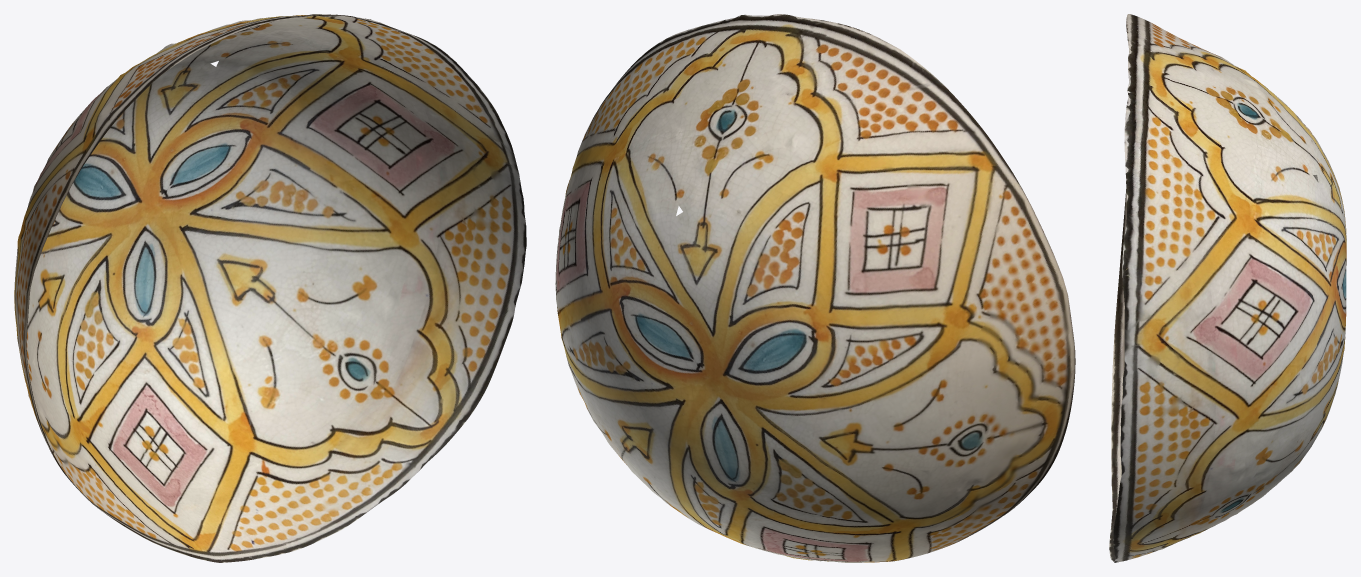
3 views of the same model, side by side, from view 1: azimuth 30°, elevation 25°; view 2: azimuth 150°, elevation 25°; view 3: azimuth 270°, elevation 25° (orthographic). The views are drawn at different scales.
Parts seen in each view (by area): view 1: mmGroup0; view 2: mmGroup0; view 3: mmGroup0.
Boxes of the visible parts, box(x1,y1,x2,y2) form: mmGroup0: box(14, 14, 526, 562); mmGroup0: box(555, 14, 1075, 562); mmGroup0: box(1109, 14, 1346, 562).
Bounding box in the file's own units: 8.82 × 8.92 × 3.92.
Materials: 1 (1 with a texture image).
